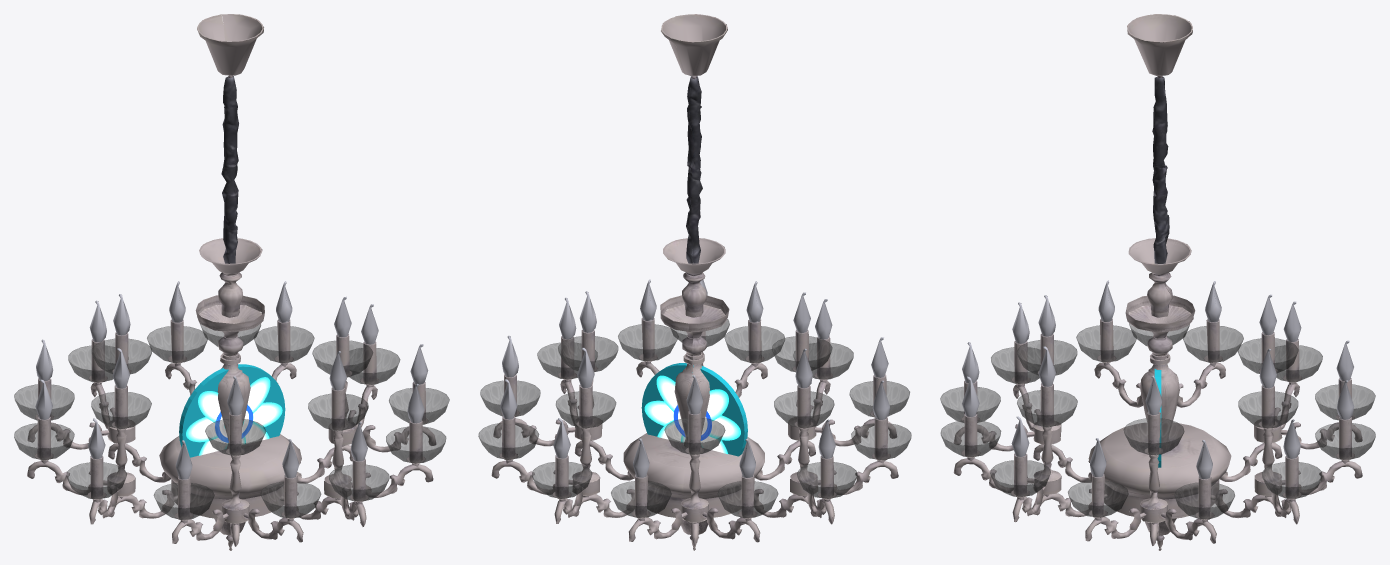
File: nyb_disco_chandelier.glb
The picture shows the model from 3 angles, left to right: view 1: azimuth 30°, elevation 25°; view 2: azimuth 150°, elevation 25°; view 3: azimuth 270°, elevation 25°; orthographic projection.
Parts seen in each view (by area): view 1: Chandelier_03, add_eyeflower_cyan.png, Cylinder; view 2: Chandelier_03, add_eyeflower_cyan.png, Cylinder; view 3: Chandelier_03.
Boxes of the visible parts, x1,y1,x2,y2 form: Chandelier_03: (14, 14, 449, 550); add_eyeflower_cyan.png: (186, 377, 282, 455); Cylinder: (179, 364, 285, 457); Chandelier_03: (478, 14, 911, 550); add_eyeflower_cyan.png: (644, 372, 740, 454); Cylinder: (641, 363, 747, 456); Chandelier_03: (940, 14, 1375, 550).
Size of the model in its own units: 0.7816 by 1.04 by 0.7867.
Materials: 4 (3 with a texture image).
